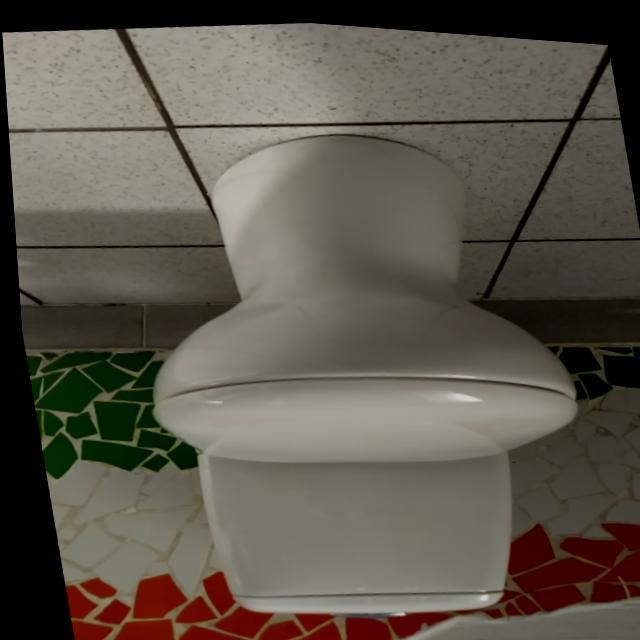toilet: (100, 95, 607, 640)
